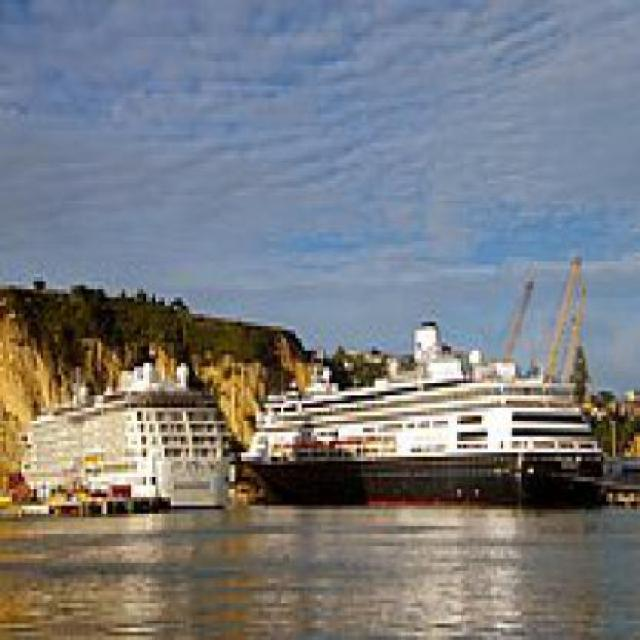cruise: (227, 310, 627, 515), (19, 347, 242, 527)
